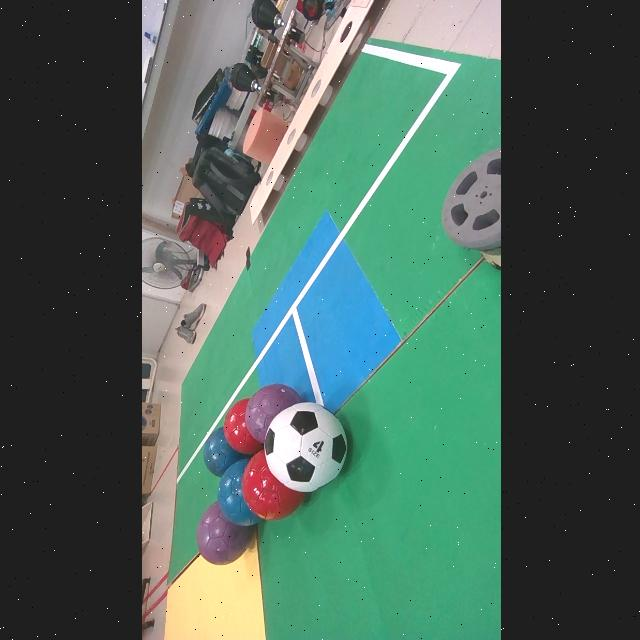B: (215, 458, 260, 526), (201, 427, 248, 478)
P: (196, 502, 254, 565), (244, 384, 300, 443)
R: (240, 450, 303, 520), (222, 399, 262, 454)
